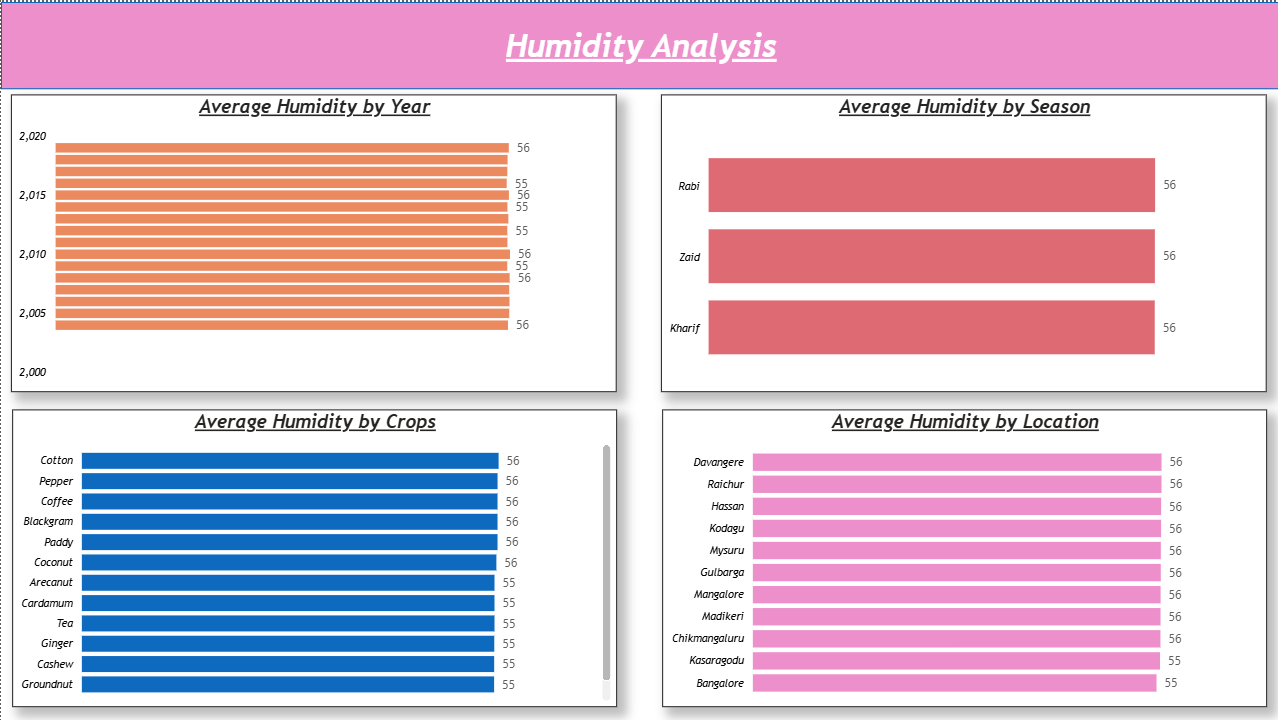

This screenshot's page, from the dashboard's own definition file:
{"tool":"powerbi","page":{"name":"Humidity Analysis","canvas":[1280,720],"ordinal":2},"visuals":[{"type":"shape","box":[0,0,1280.2,87.2],"z":0},{"type":"barChart","title":"Average Humidity by Year","fields":{"Category":["AGRICULTURE.YEAR"],"Y":["Avg(AGRICULTURE.HUMIDITY)"]},"box":[10.5,93,605.8,297.7],"z":1000},{"type":"barChart","title":"Average Humidity by Season","fields":{"Category":["AGRICULTURE.SEASON"],"Y":["Avg(AGRICULTURE.HUMIDITY)"]},"box":[660.5,93,605.8,297.7],"z":2000},{"type":"barChart","title":"Average Humidity by Crops","fields":{"Category":["AGRICULTURE.CROPS"],"Y":["Avg(AGRICULTURE.HUMIDITY)"]},"box":[11.6,407,604.7,297.7],"z":3000},{"type":"barChart","title":"Average Humidity by Location","fields":{"Category":["AGRICULTURE.LOCATION"],"Y":["Avg(AGRICULTURE.HUMIDITY)"]},"box":[661.6,407,604.7,297.7],"z":4000}]}

Visuals, with their boxes in screenshot pixels (x1, y1, x2, y2), scaled from the page's 1280x720 canvas onto the 1278x720 screenshot:
shape: (x1=0, y1=0, x2=1277, y2=87)
"Average Humidity by Year" barChart: (x1=10, y1=93, x2=615, y2=391)
"Average Humidity by Season" barChart: (x1=659, y1=93, x2=1264, y2=391)
"Average Humidity by Crops" barChart: (x1=12, y1=407, x2=615, y2=705)
"Average Humidity by Location" barChart: (x1=661, y1=407, x2=1264, y2=705)
